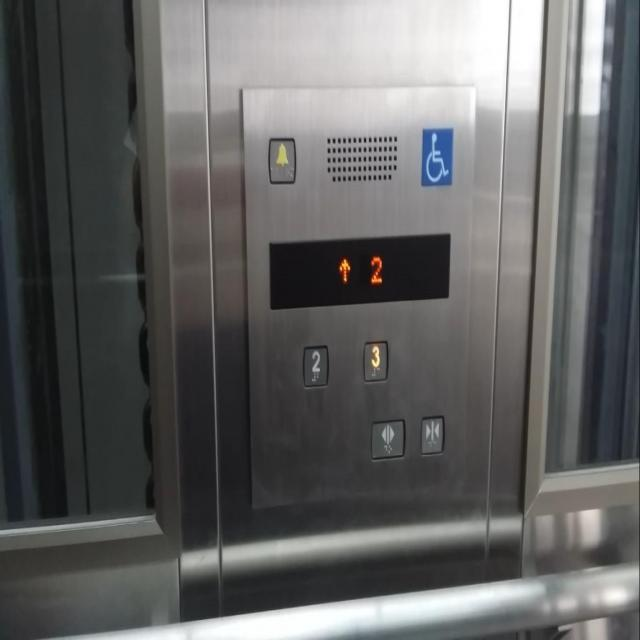2: (302, 342, 328, 388)
3: (362, 336, 388, 382)
CH: (421, 126, 453, 186)
alarm: (267, 136, 298, 183)
close: (419, 413, 444, 455)
led: (268, 232, 451, 310)
open: (370, 417, 406, 460)
